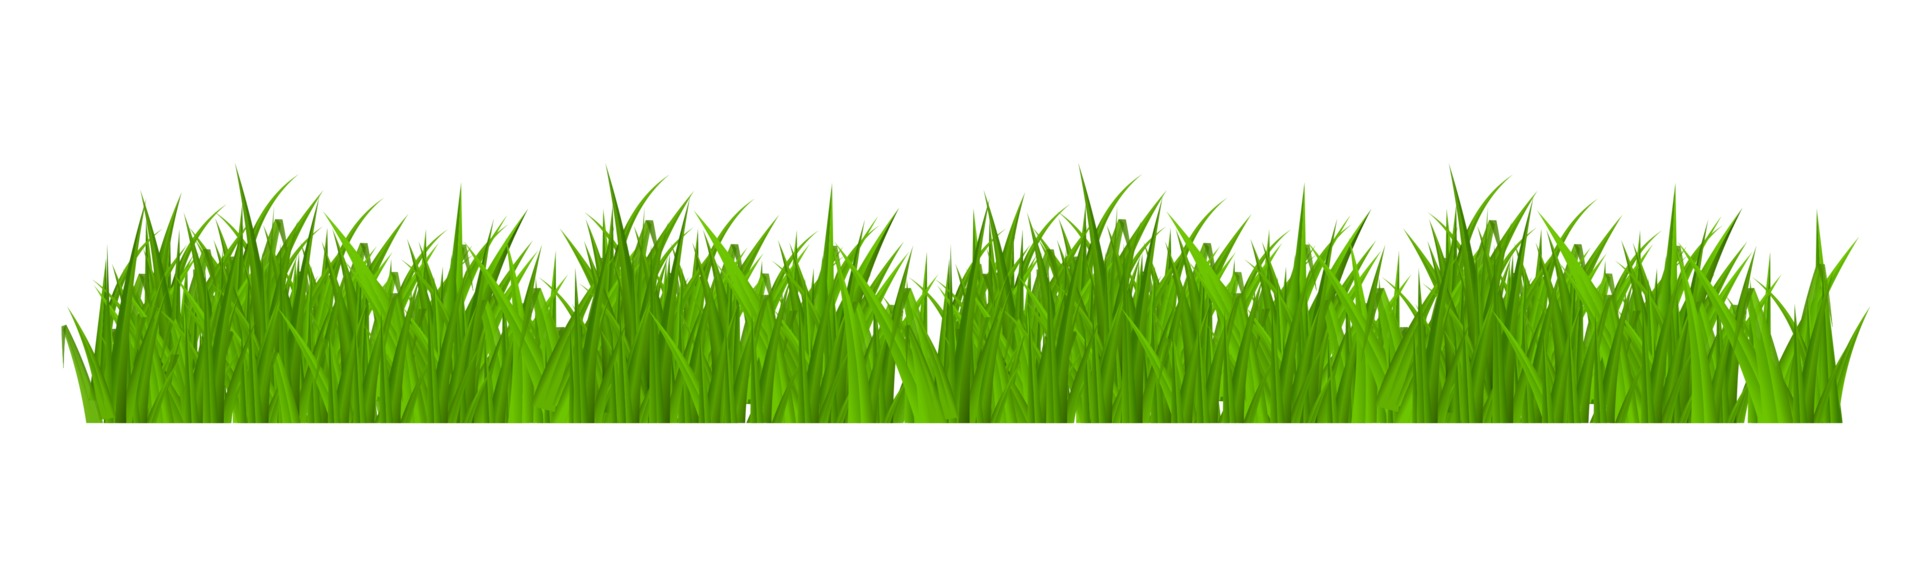grass: (81, 264, 1836, 417)
